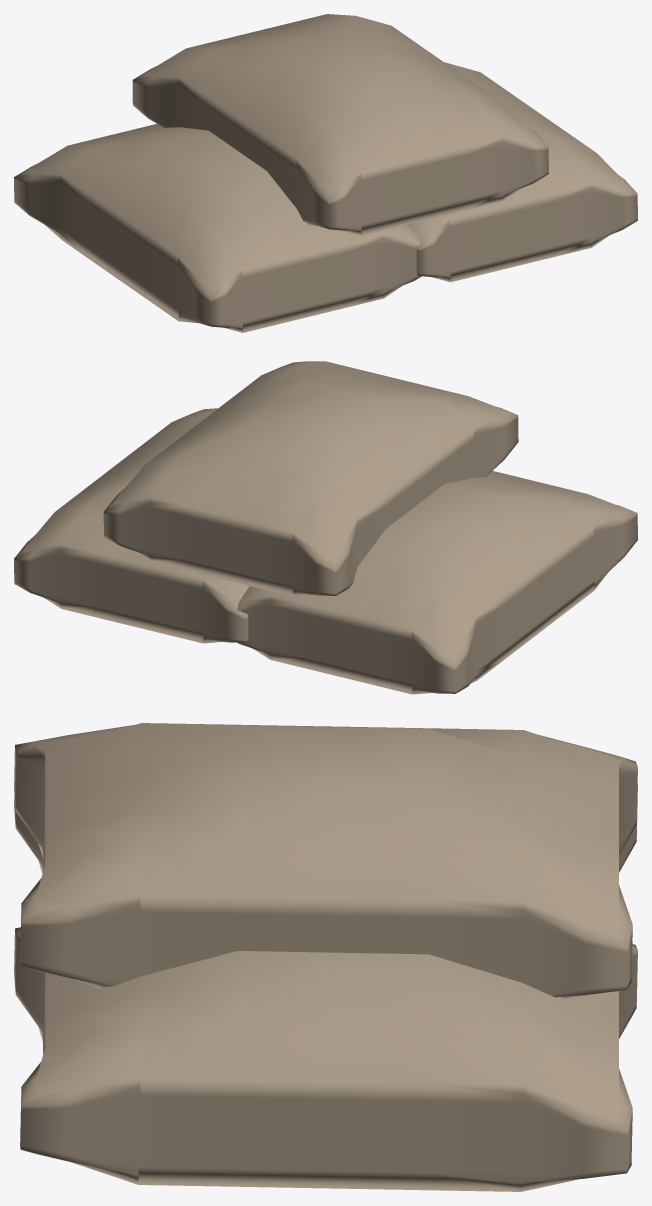
Rendered from Rice Sack.fbx.
The picture shows the model from 3 angles, top to bottom: view 1: azimuth 30°, elevation 25°; view 2: azimuth 150°, elevation 25°; view 3: azimuth 270°, elevation 25°; orthographic projection. The views are drawn at different scales.
Parts seen in each view (by area): view 1: pasted__pasted__pCube1, pCube1, pasted__pCube1; view 2: pasted__pasted__pCube1, pCube1, pasted__pCube1; view 3: pasted__pasted__pCube1, pasted__pCube1, pCube1.
Part boxes in pixels (left/top/right/bottom): pasted__pasted__pCube1: left=132, top=14, right=548, bottom=235; pCube1: left=14, top=124, right=421, bottom=332; pasted__pCube1: left=407, top=62, right=637, bottom=282; pasted__pasted__pCube1: left=103, top=361, right=518, bottom=596; pCube1: left=237, top=471, right=637, bottom=694; pasted__pCube1: left=14, top=408, right=249, bottom=643; pasted__pasted__pCube1: left=14, top=723, right=637, bottom=998; pasted__pCube1: left=14, top=927, right=637, bottom=1191; pCube1: left=14, top=784, right=637, bottom=944.
Bounding box in the file's own units: 6.66 × 2.49 × 4.97.
